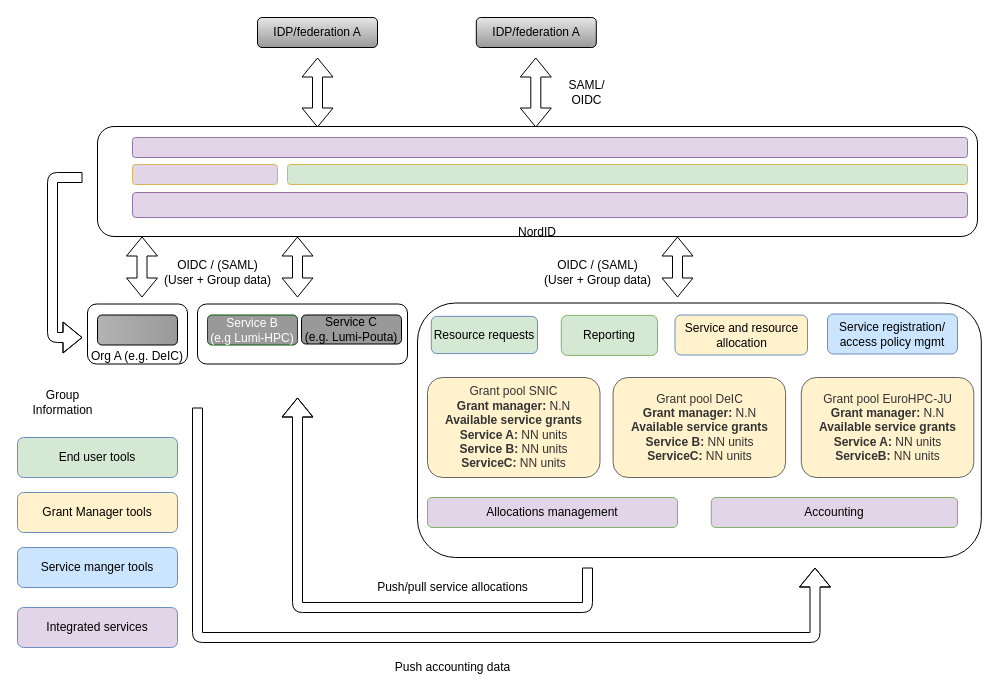
This 999x695 diagram has some shape labels left out. The box of each missing label's shape, as (x1, y1, x2, y2) in pixels:
AAI (IDP): (132, 192, 968, 218)
AAI (SP): (132, 136, 968, 158)
Group info API: (132, 164, 278, 184)
Org B (e.g. CSC): (196, 303, 408, 364)
Service A (e.g. HPC): (96, 314, 178, 345)
User & group management: (286, 164, 968, 184)
Yggdrasil: (416, 302, 981, 558)
